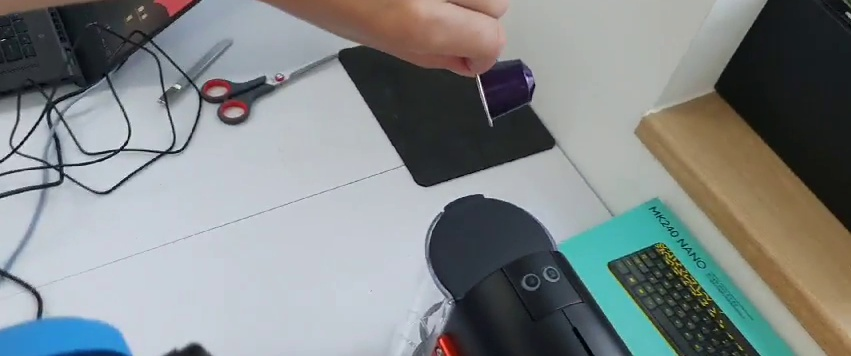capsule_11: (474, 57, 537, 127)
